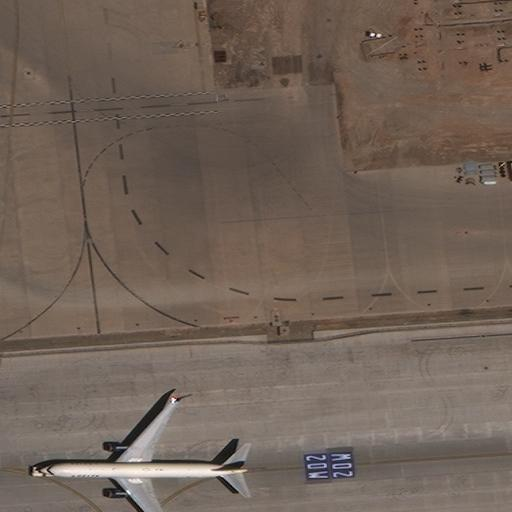Large Civil Transport: (37, 399, 249, 511)
